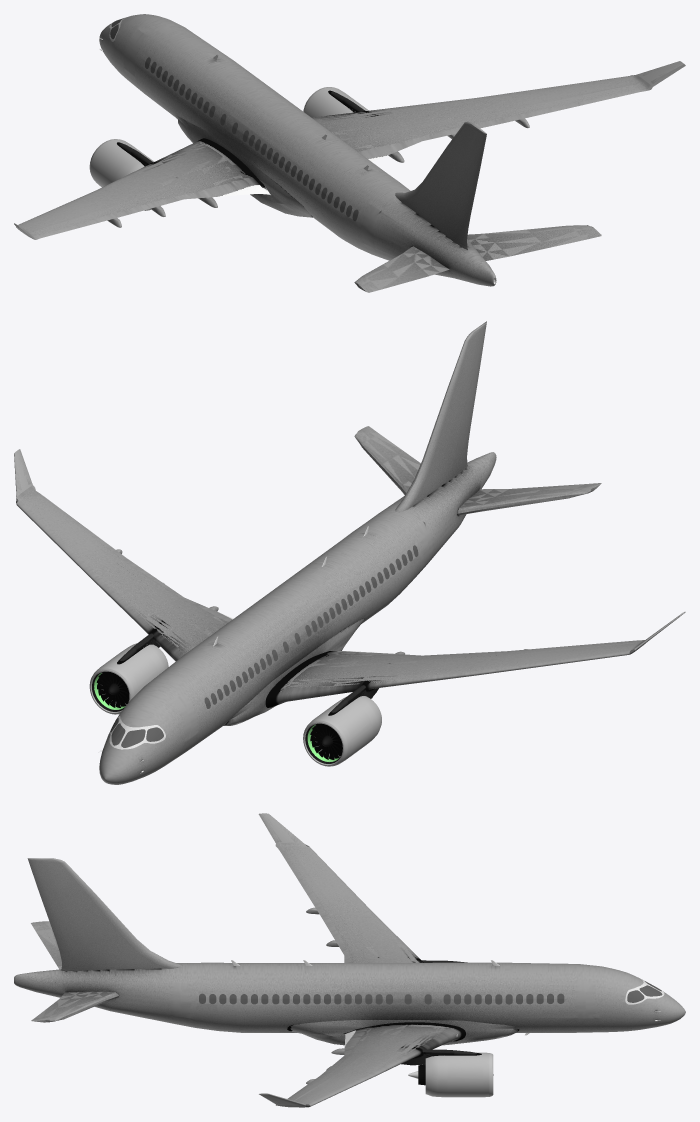
The model's file is BCS1.glb.
The picture shows the model from 3 angles, top to bottom: view 1: azimuth 30°, elevation 25°; view 2: azimuth 150°, elevation 25°; view 3: azimuth 270°, elevation 25°; orthographic projection. The views are drawn at different scales.
Parts seen in each view (by area): view 1: body, wings, hstab, vstab, rudder, windows, flapRO, Circle, nacelleL, flapLO, flapLI, flapRI (+10 smaller); view 2: body, wings, vstab, hstab, nacelleL, windows, nacelleR, rudder, Circle, flapRO, enginefix_, fanR (+2 smaller); view 3: body, wings, vstab, nacelleR, rudder, windows, Circle, flapLO, hstab, doorFR, doorRR, enginefix_ (+3 smaller).
Boxes of the visible parts, left/top/right/bottom form: body: left=99, top=14, right=496, bottom=286; wings: left=14, top=61, right=685, bottom=239; hstab: left=354, top=225, right=598, bottom=291; vstab: left=395, top=121, right=478, bottom=249; rudder: left=441, top=127, right=486, bottom=246; windows: left=110, top=18, right=358, bottom=220; flapRO: left=410, top=101, right=557, bottom=140; Circle: left=175, top=115, right=312, bottom=217; nacelleL: left=89, top=139, right=153, bottom=210; flapLO: left=85, top=185, right=183, bottom=223; flapLI: left=171, top=178, right=265, bottom=199; flapRI: left=354, top=127, right=422, bottom=161; body: left=99, top=452, right=496, bottom=784; wings: left=14, top=449, right=685, bottom=707; vstab: left=395, top=327, right=479, bottom=512; hstab: left=354, top=428, right=600, bottom=515; nacelleL: left=303, top=696, right=381, bottom=766; windows: left=110, top=545, right=418, bottom=747; nacelleR: left=89, top=643, right=168, bottom=714; rudder: left=450, top=321, right=486, bottom=474; Circle: left=223, top=618, right=364, bottom=725; flapRO: left=85, top=534, right=183, bottom=602; enginefix_: left=117, top=633, right=378, bottom=715; fanR: left=96, top=671, right=129, bottom=707; body: left=14, top=962, right=685, bottom=1032; wings: left=258, top=813, right=465, bottom=1107; vstab: left=42, top=858, right=182, bottom=970; nacelleR: left=425, top=1052, right=493, bottom=1097; rudder: left=27, top=858, right=98, bottom=968; windows: left=199, top=981, right=662, bottom=1004; Circle: left=290, top=1020, right=519, bottom=1045; flapLO: left=305, top=889, right=366, bottom=955; hstab: left=34, top=921, right=118, bottom=1022; doorFR: left=576, top=981, right=594, bottom=1019; doorRR: left=171, top=982, right=189, bottom=1018; enginefix_: left=401, top=960, right=481, bottom=1065.
Size of the model in its own units: 34.59 by 11.05 by 35.02.
7 materials, 3 textured.
